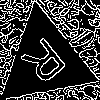R: (20, 35, 74, 94)
